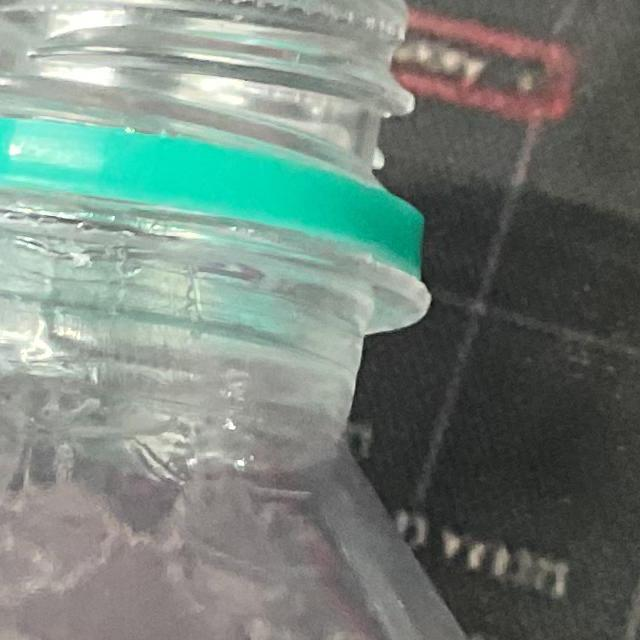open-cap: (0, 0, 401, 217)
